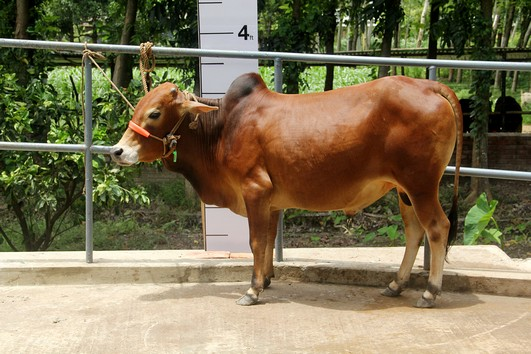cow: (105, 68, 470, 316)
